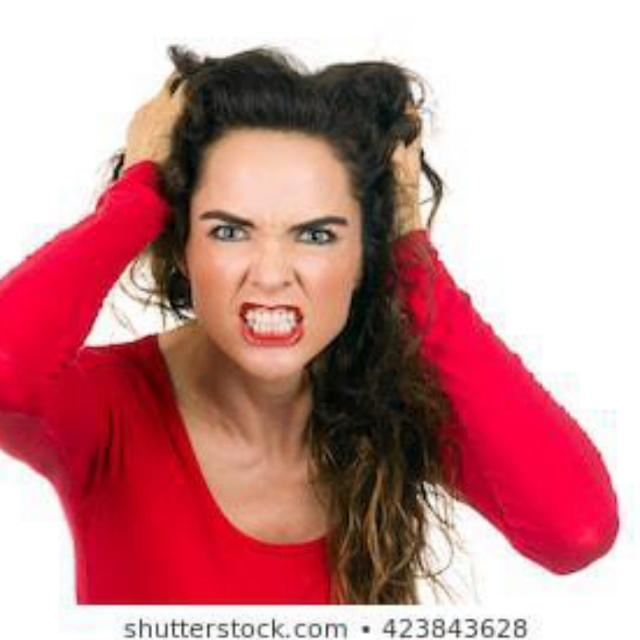Angry: (106, 42, 468, 385)
